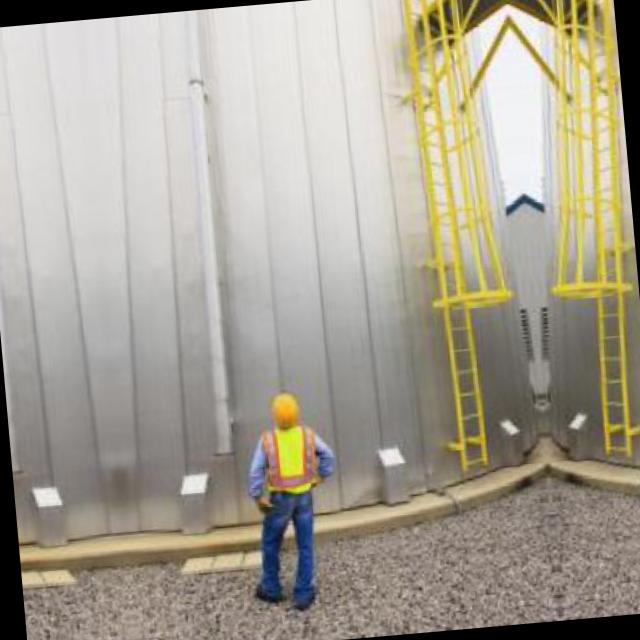helmet: (268, 390, 306, 445)
